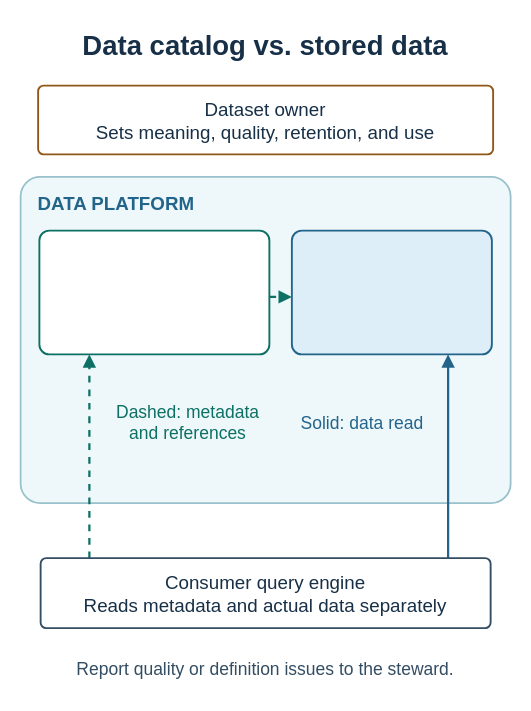
The diagram is 531 pixels wide and 711 high, and some of its shapes have lost their labels. Each missing label, with the centre of its shape:
Amazon S3 Actual data objects: pixel 391 292
AWS Glue Data Catalog Metadata table Location, schema, properties: pixel 154 292
